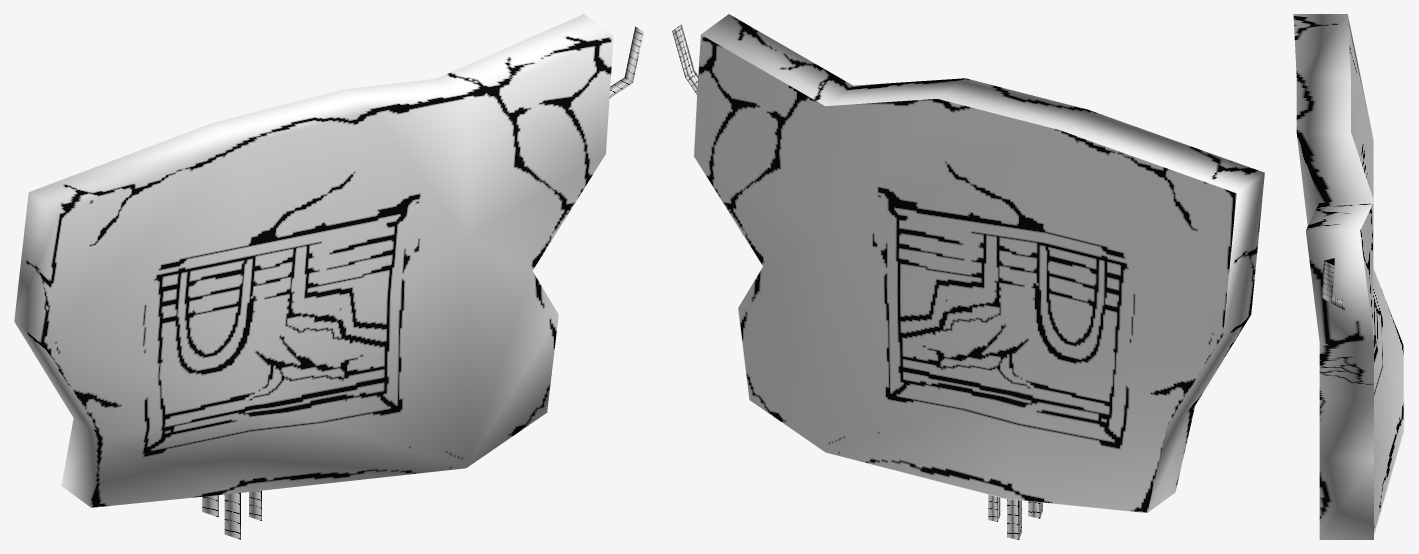
The model's file is Building_02_04.fbx.
3 views of the same model, side by side, from view 1: azimuth 30°, elevation 25°; view 2: azimuth 150°, elevation 25°; view 3: azimuth 270°, elevation 25° (orthographic). The views are drawn at different scales.
Parts seen in each view (by area): view 1: Building_02_04; view 2: Building_02_04; view 3: Building_02_04.
Part boxes in pixels (x1,y1,x2,y2): Building_02_04: (14,14,643,539); Building_02_04: (672,14,1264,539); Building_02_04: (1293,14,1404,539).
Bounding box in the file's own units: 9.5 × 6.64 × 1.66.
